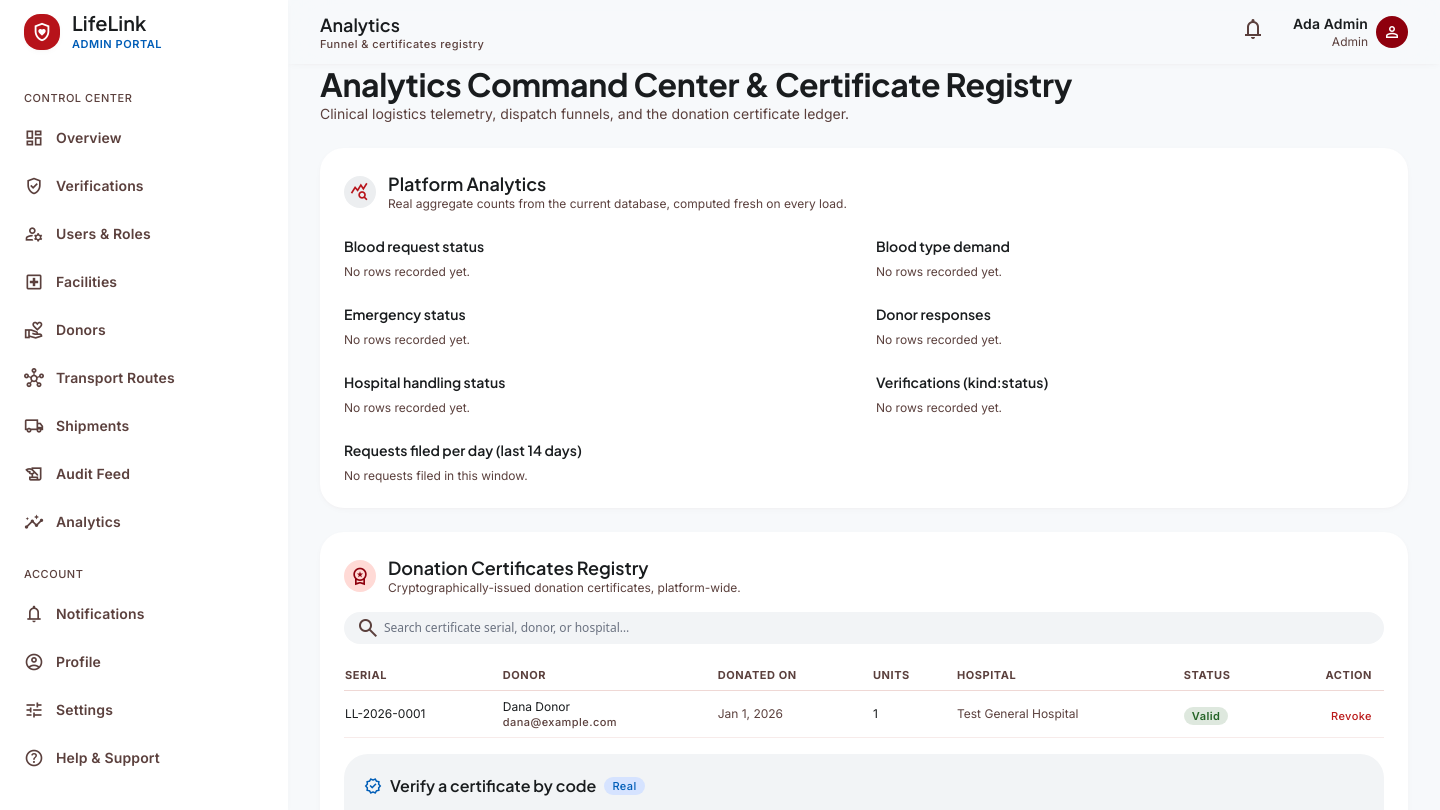
AdminAnalytics certificate registry › surfaces a real API error through the existing normalized error mechanism, not a fabricated success
Click the button "Revoke" at (1352, 716), box [1331,709,1372,723]
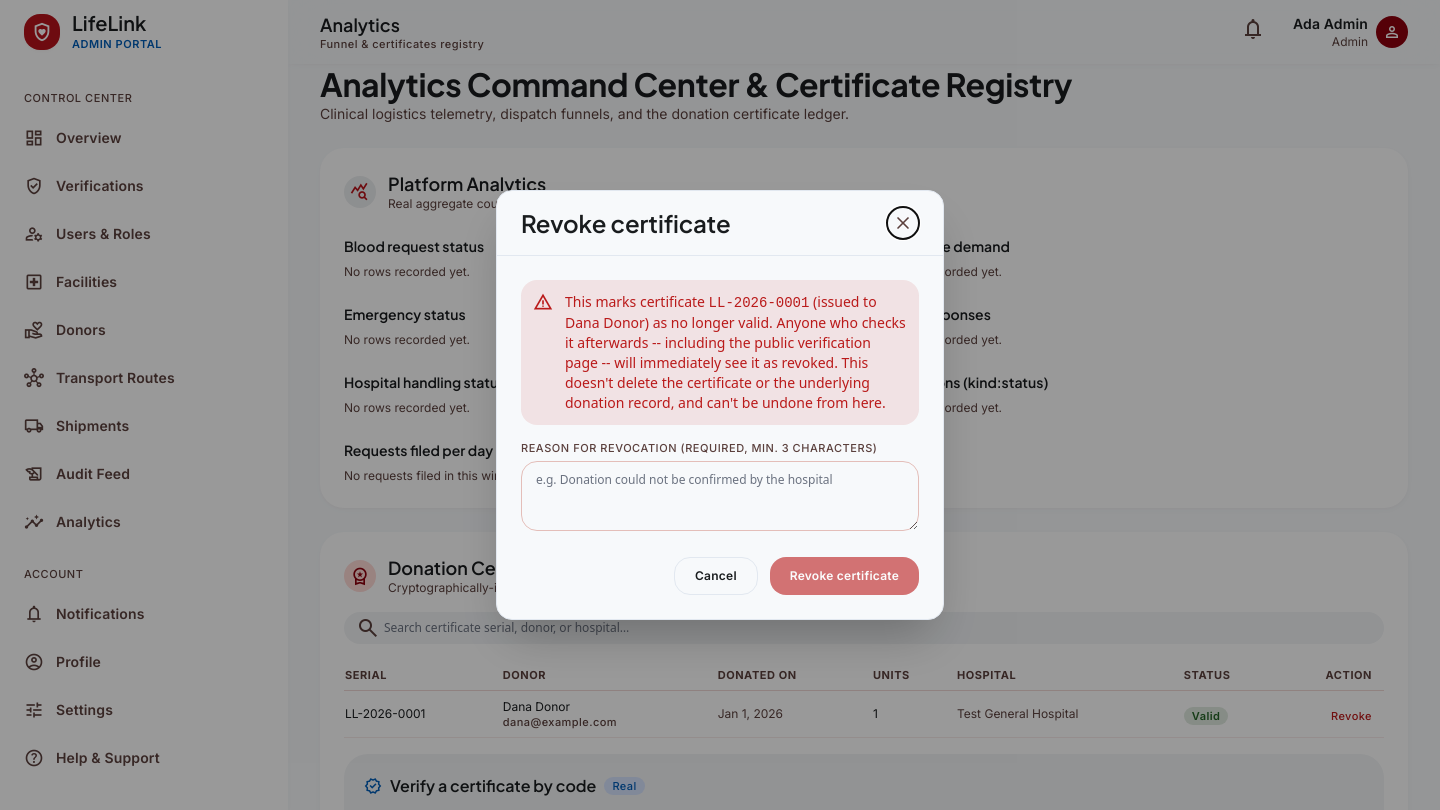
Now the heading "Revoke certificate" is shown, box [521,207,730,239]
Type "Donation could not be confirmed." into the text box labelled "Reason for revocation (required, min. 3 characters)" at (720, 496), box [521,461,919,531]
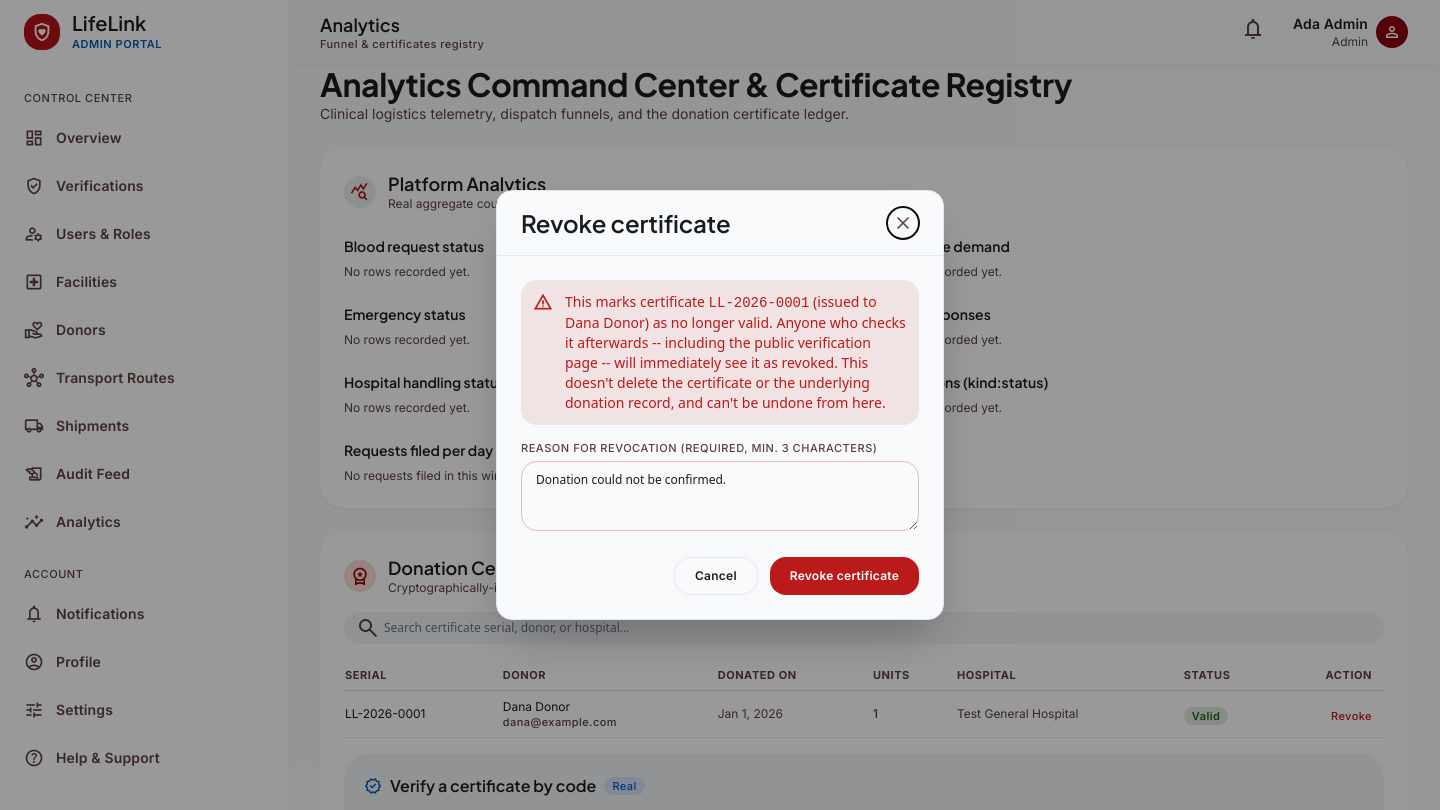
Click the button "Revoke certificate" at (844, 576), box [770,557,919,595]
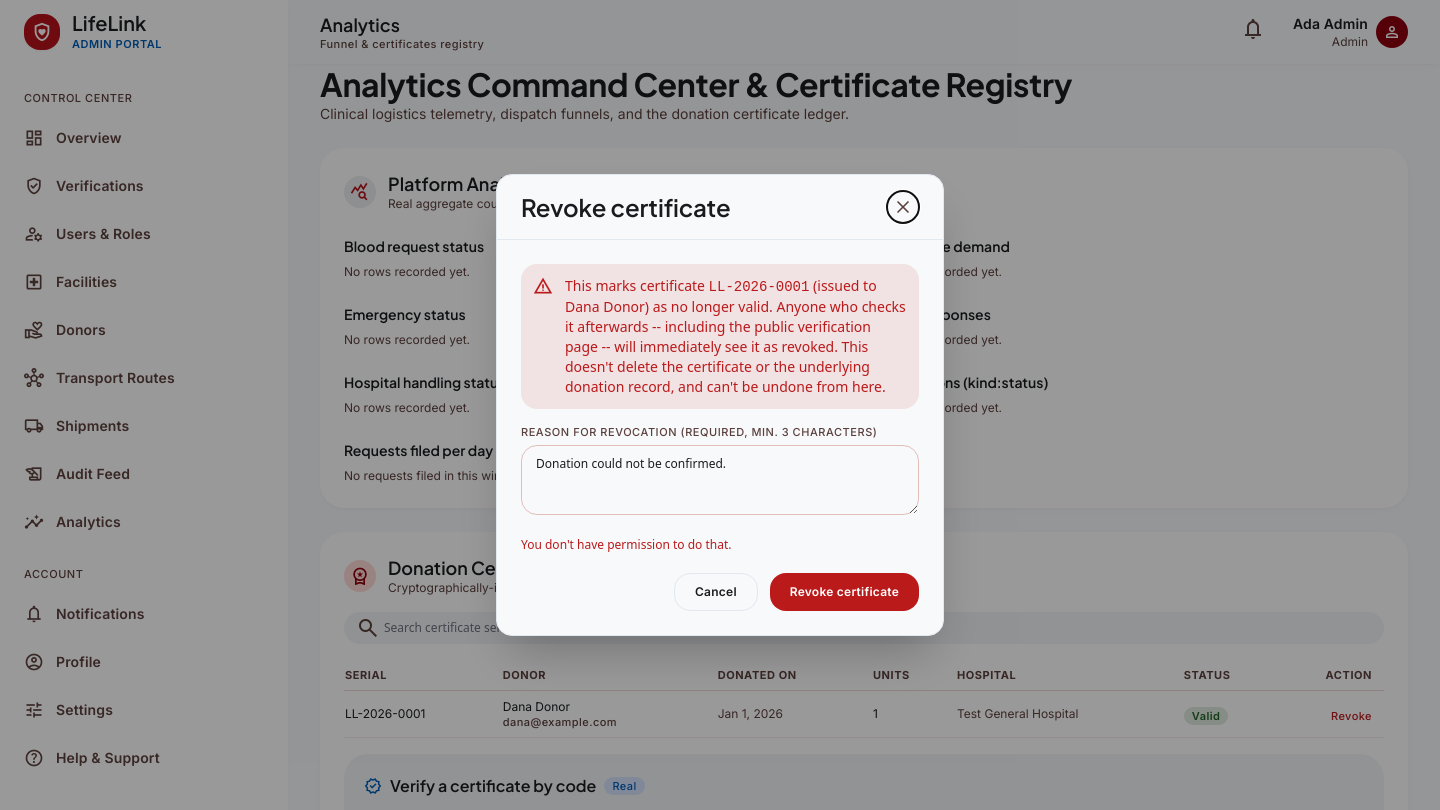
Expected: the text "Valid" is shown, [1184,707,1228,725]
Now the heading "Revoke certificate" is shown, box [521,191,730,223]
Now the text "You don't have permission to do that." is shown, box [521,536,732,553]
